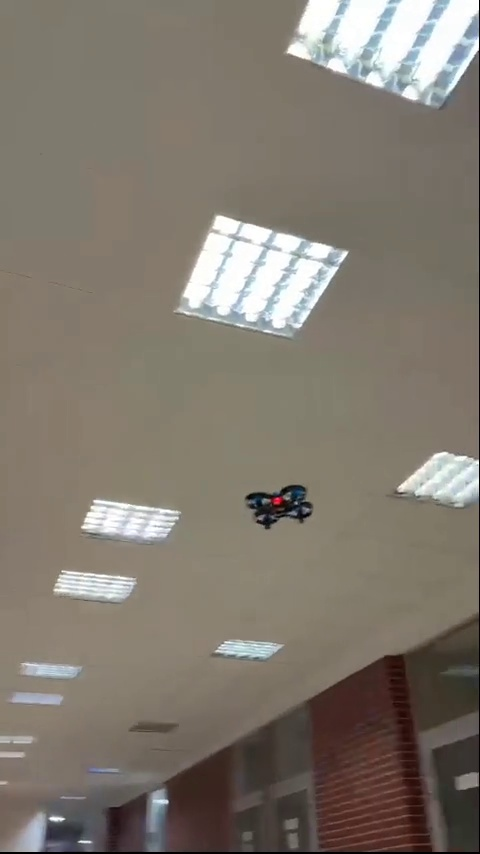drone: (251, 482, 313, 526)
